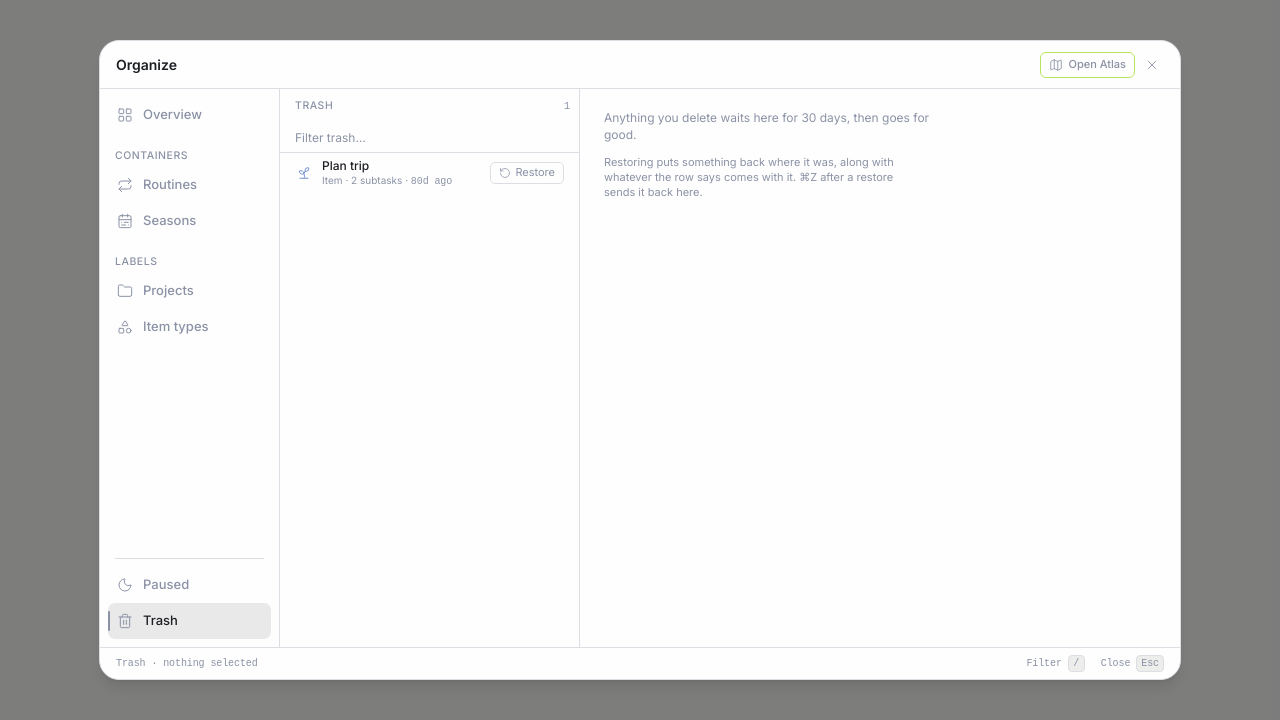
Test: the Trash preview › lists the subtasks that come back with a parent
Click the button with test id "trash-select" at (388, 172), box top-left (295, 157), bottom-right (481, 188)
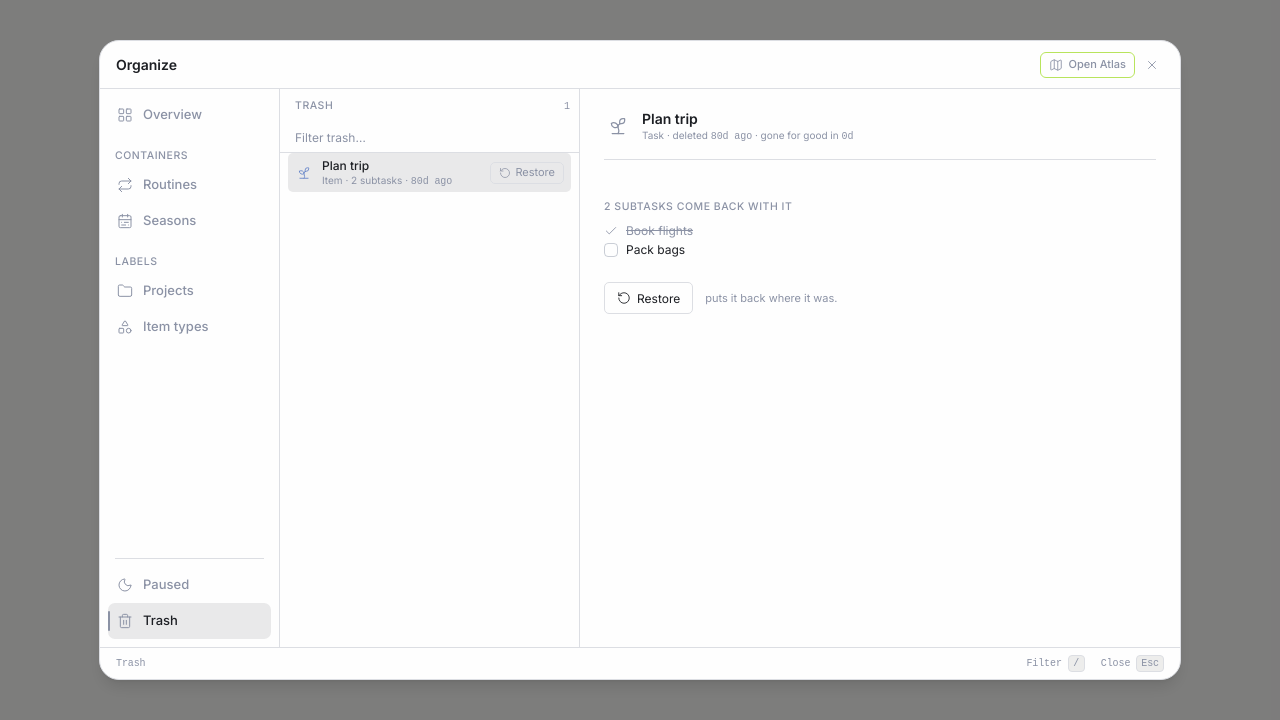
Result: the element with test id "trash-preview" shows "2 subtasks come back" at top-left (604, 110), bottom-right (853, 314)
Result: the element with test id "trash-preview" shows "Book flights" at top-left (626, 223), bottom-right (693, 238)
Result: the element with test id "trash-preview" shows "Pack bags" at top-left (626, 242), bottom-right (685, 257)
